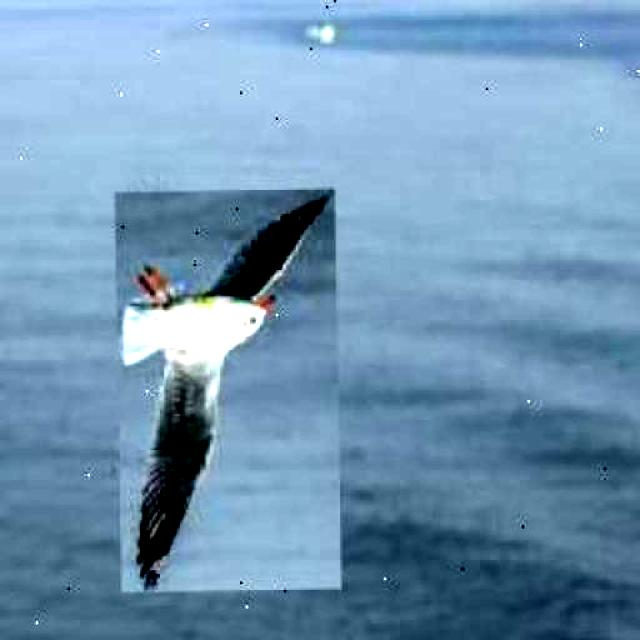airplane: (114, 189, 340, 592)
